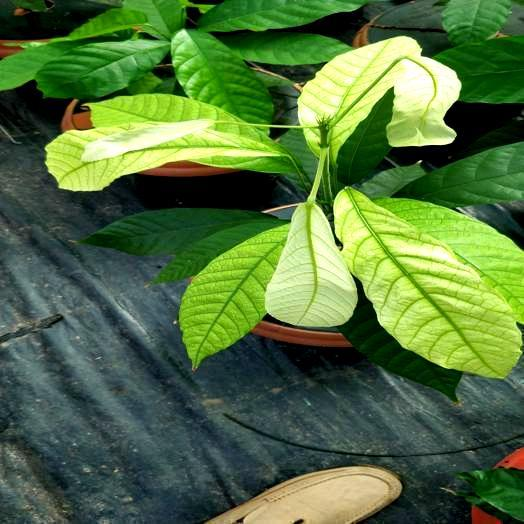Healthy Leaf: (341, 280, 461, 405), (70, 207, 275, 257), (147, 219, 287, 286), (172, 30, 272, 122), (385, 142, 523, 207), (35, 40, 168, 96), (433, 36, 523, 104), (198, 0, 367, 31), (220, 29, 351, 64), (0, 41, 78, 89), (439, 0, 509, 45), (124, 0, 188, 39)
Iron: (337, 190, 520, 377), (296, 35, 461, 162), (375, 199, 523, 323), (40, 122, 284, 190), (88, 92, 293, 171), (179, 225, 288, 366), (266, 199, 357, 326)
